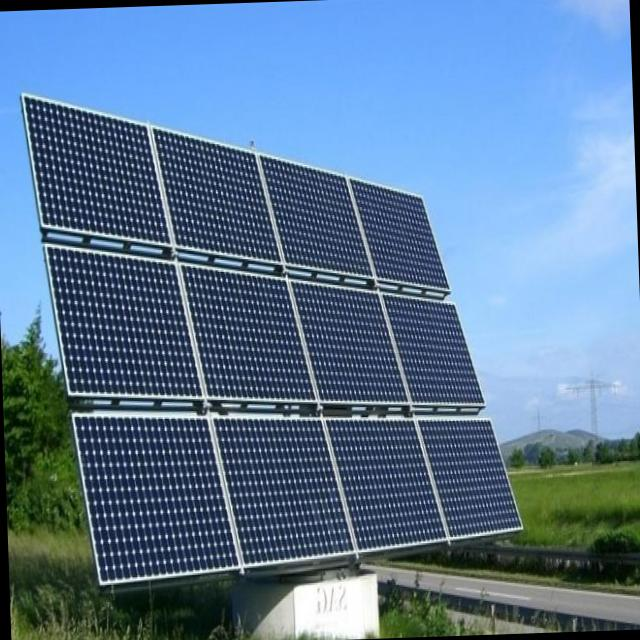no faulty: (25, 95, 524, 581)
